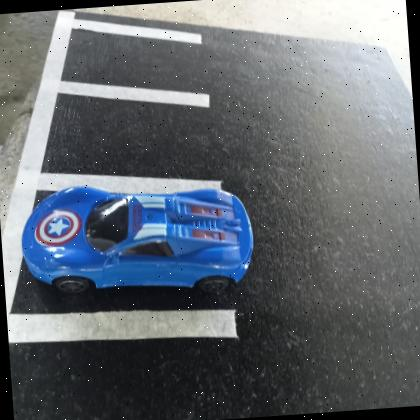Car: (21, 185, 254, 298)
